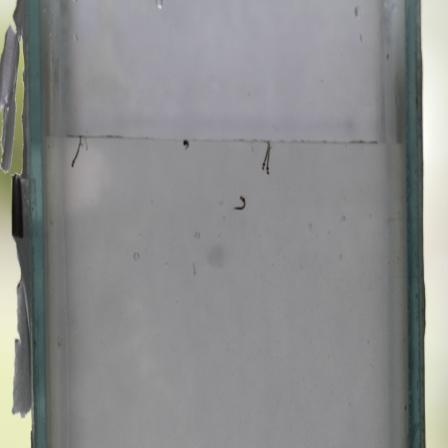Jentik-Nyamuk: (68, 135, 85, 171), (258, 138, 273, 178), (229, 193, 249, 215), (180, 137, 191, 150)
